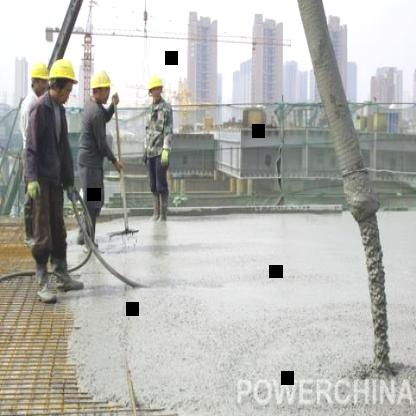helmet: (42, 56, 80, 102), (90, 64, 114, 107), (30, 58, 50, 100), (145, 70, 165, 104)
